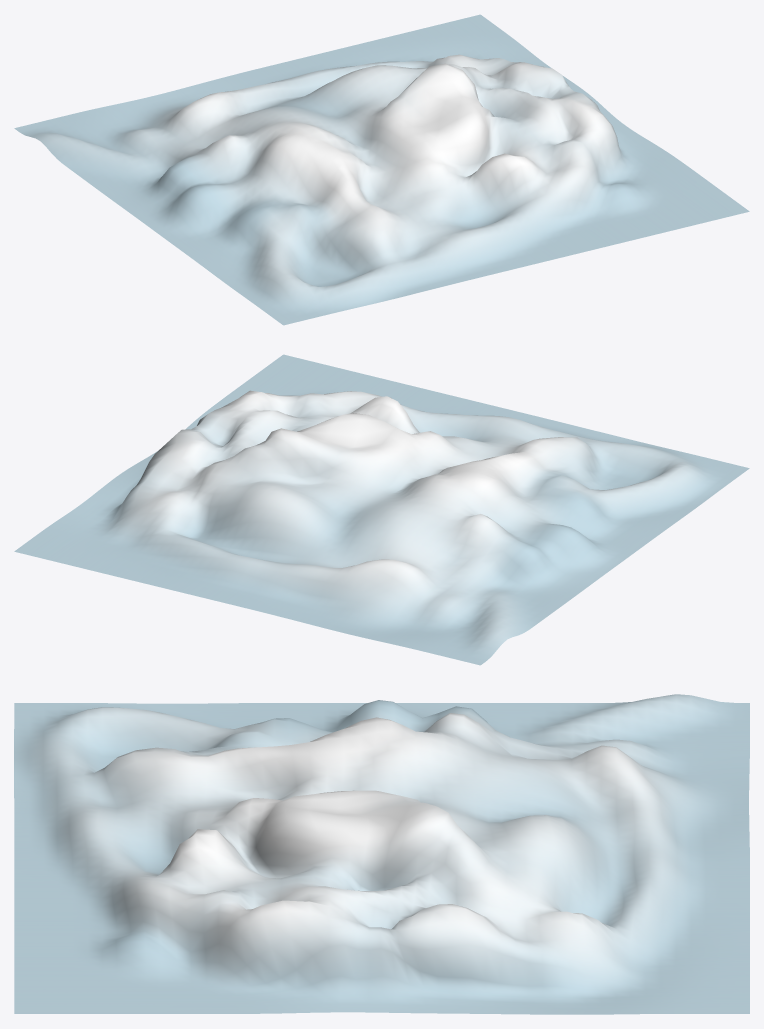
File: snow big.fbx
3 renders of one model, top to bottom at view 1: azimuth 30°, elevation 25°; view 2: azimuth 150°, elevation 25°; view 3: azimuth 270°, elevation 25°, orthographic. The views are drawn at different scales.
Parts seen in each view (by area): view 1: pPlane1; view 2: pPlane1; view 3: pPlane1.
Part boxes in pixels (x1=…): pPlane1: x1=14, y1=14, x2=749, y2=325; pPlane1: x1=14, y1=354, x2=749, y2=665; pPlane1: x1=14, y1=694, x2=749, y2=1014.
Bounding box in the file's own units: 14.68 × 2.25 × 14.68.
